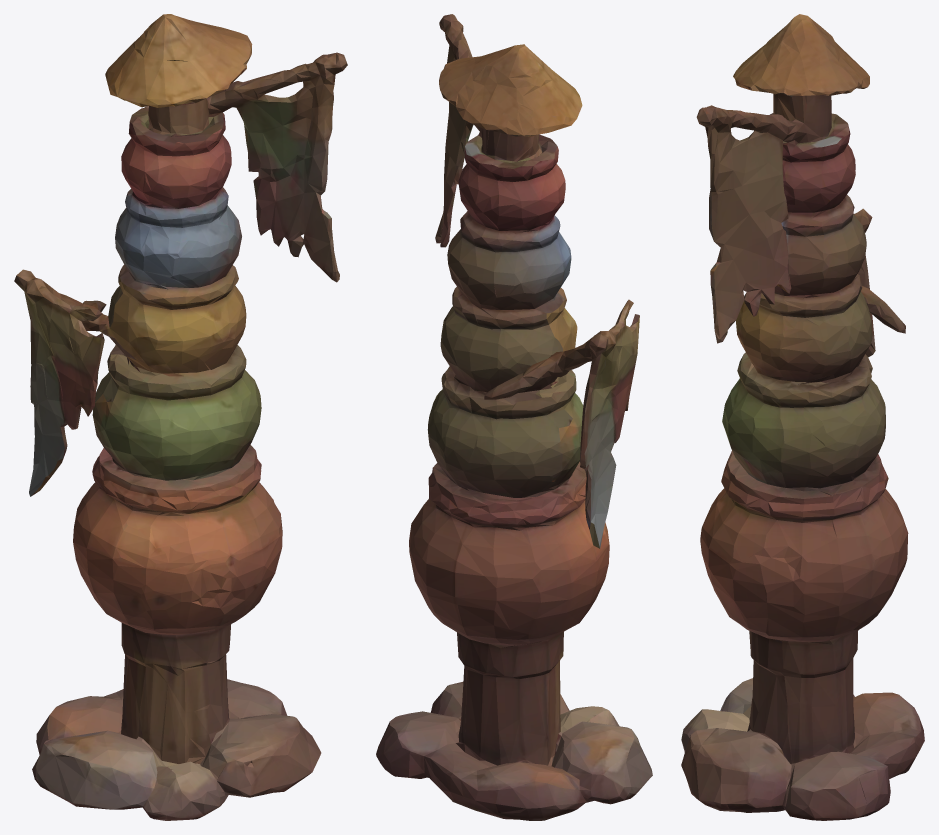
Rendered from totem_pots.glb.
3 renders of one model, left to right at view 1: azimuth 30°, elevation 25°; view 2: azimuth 150°, elevation 25°; view 3: azimuth 270°, elevation 25°, orthographic. The views are drawn at different scales.
Parts seen in each view (by area): view 1: geometry_0; view 2: geometry_0; view 3: geometry_0.
Boxes of the visible parts, x1,y1,x2,y2 form: geometry_0: (14, 14, 347, 820); geometry_0: (376, 14, 652, 820); geometry_0: (681, 14, 924, 820).
Size of the model in its own units: 0.8073 by 2.3 by 0.6728.
1 material, 1 textured.
